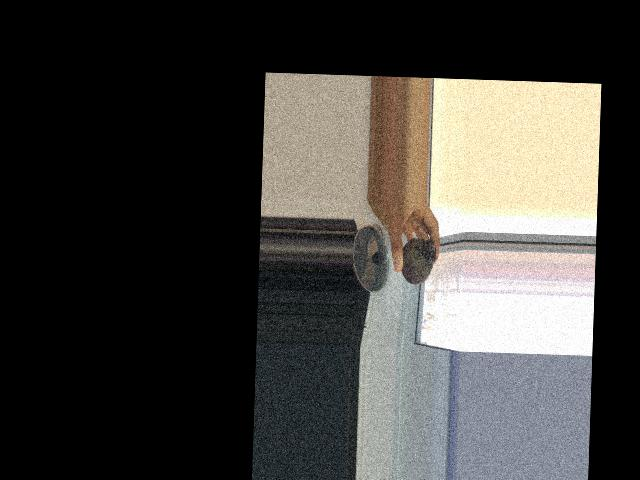beet: (400, 224, 437, 285)
